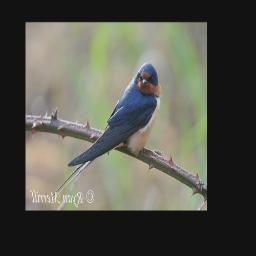Swallow: (50, 62, 162, 201)
